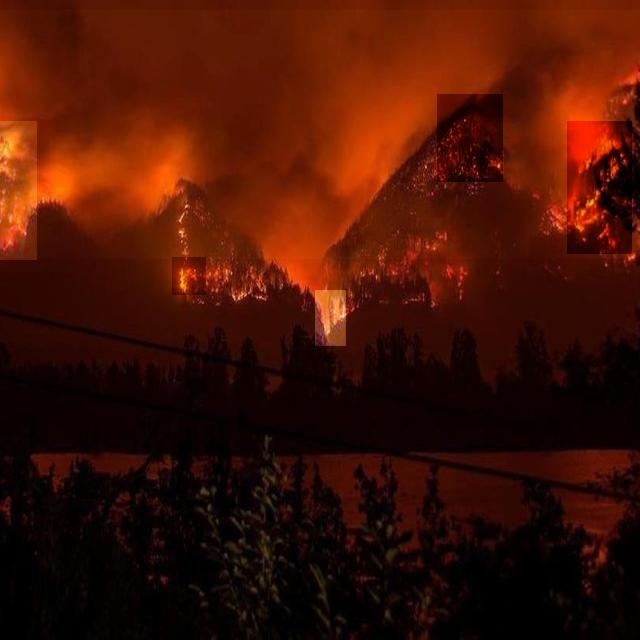Fire: (567, 121, 632, 254), (437, 94, 503, 182), (0, 121, 37, 260), (315, 290, 346, 346), (172, 257, 206, 295)
Smoke: (0, 10, 640, 259)
